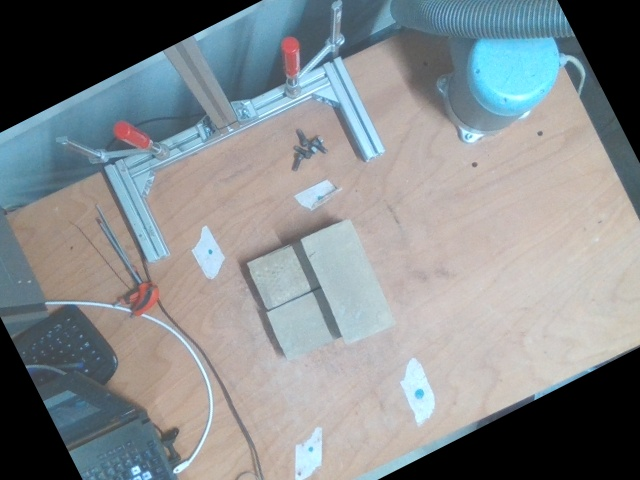brick: (299, 218, 397, 344)
